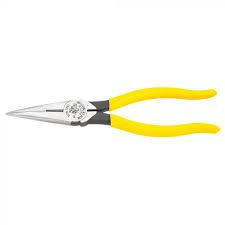pliers: (3, 84, 219, 137)
